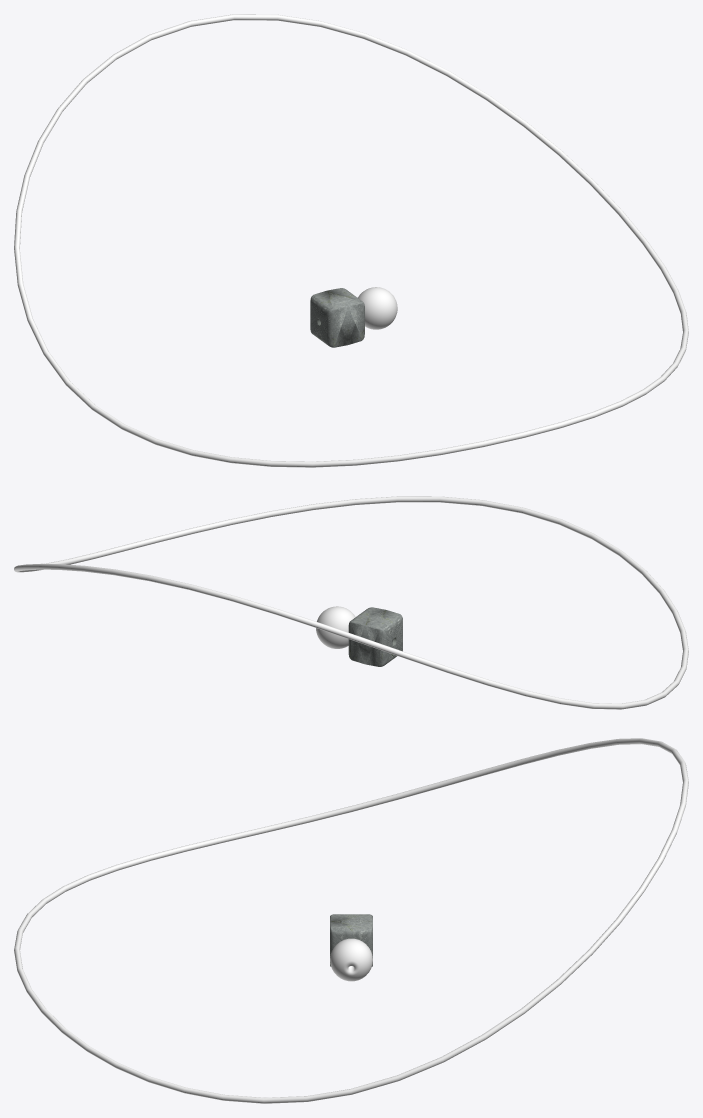
The model's file is bracelet04.glb.
3 views of the same model, one above another, from view 1: azimuth 30°, elevation 25°; view 2: azimuth 150°, elevation 25°; view 3: azimuth 270°, elevation 25° (orthographic).
Parts seen in each view (by area): view 1: BezierCircle.001, Sphere; view 2: BezierCircle.001, Sphere; view 3: BezierCircle.001, Sphere.
Boxes of the visible parts, left/top/right/bottom form: BezierCircle.001: left=14, top=14, right=688, bottom=467; Sphere: left=310, top=287, right=397, bottom=347; BezierCircle.001: left=14, top=496, right=688, bottom=709; Sphere: left=316, top=606, right=402, bottom=666; BezierCircle.001: left=14, top=738, right=688, bottom=1103; Sphere: left=330, top=914, right=372, bottom=981.
Size of the model in its own units: 31.4 by 9.89 by 31.4.
3 materials, 1 textured.
